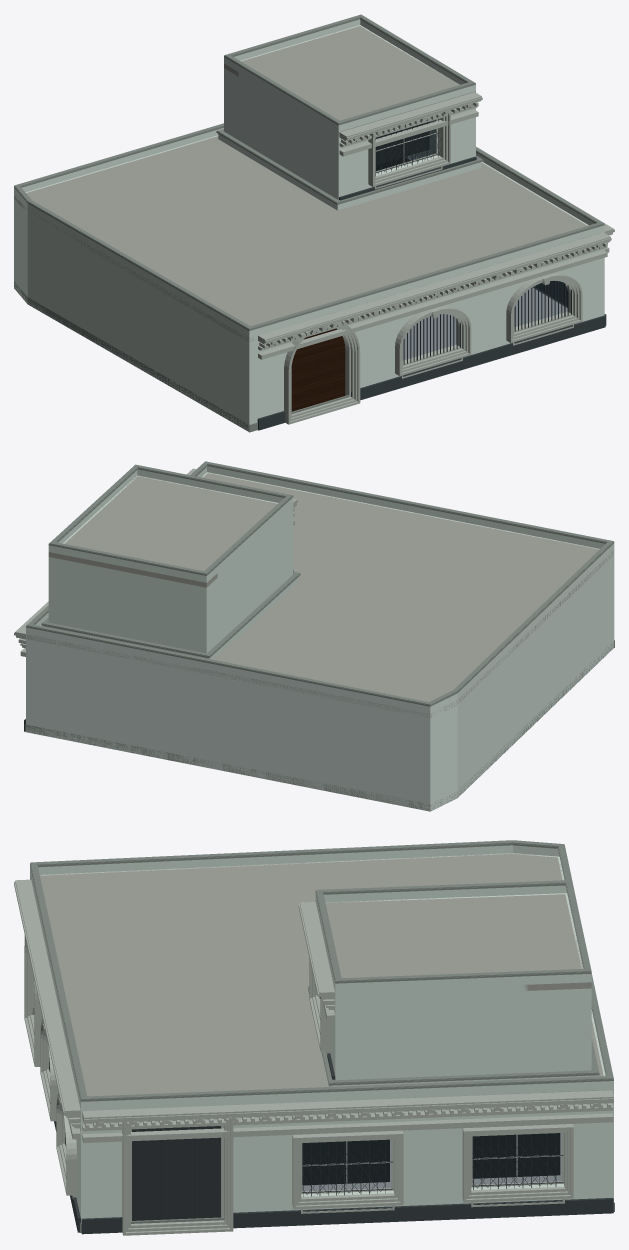
Rendered from building.glb.
3 views of the same model, one above another, from view 1: azimuth 30°, elevation 25°; view 2: azimuth 150°, elevation 25°; view 3: azimuth 270°, elevation 25° (orthographic). The views are drawn at different scales.
Visible parts, largest first — view 1: roof/house:0/roof_slab#0001, house:0/edge0/z0/house:0/edge0/z0/wall_0_0, roof/upper:0/roof_slab#0001, upper:0/edge0/z3.6/upper:0/edge0/z3.6/wall_0_0, roof/house:0/parapet#0001, house:0/edge2/z0/proj_classical_cornice_05/classical_cornice (×3), roof/house:0/parapet_cap#0002, house:0/edge2/z0/opening_u1.36_v0.05/door_panel#0001, roof/upper:0/parapet#0001, house:0/edge2/z0/proj_panel_08/facade_projection_panel#0001, upper:0/edge1/z3.6/upper:0/edge1/z3.6/wall_0_0, house:0/edge2/z0/proj_ledge_06/facade_projection_ledge#0001 (+24 smaller); view 2: roof/house:0/roof_slab#0001, house:0/edge4/z0/house:0/edge4/z0/wall_0_0, house:0/edge0/z0/house:0/edge0/z0/wall_0_0, roof/upper:0/roof_slab#0001, upper:0/edge3/z3.6/upper:0/edge3/z3.6/wall_0_0, roof/house:0/parapet#0001, upper:0/edge0/z3.6/upper:0/edge0/z3.6/wall_0_0, roof/house:0/parapet_cap#0002, roof/upper:0/parapet#0001, house:0/edge5/z0/house:0/edge5/z0/wall_0_0, roof/house:0/parapet_cap#0001, roof/upper:0/parapet_cap#0002 (+6 smaller); view 3: roof/house:0/roof_slab#0001, upper:0/edge2/z3.6/upper:0/edge2/z3.6/wall_0_0, house:0/edge3/z0/house:0/edge3/z0/wall_0_0/core0, roof/upper:0/roof_slab#0001, house:0/edge3/z0/proj_classical_cornice_05/classical_cornice (×5), roof/house:0/parapet#0001, house:0/edge3/z0/opening_u1.32_v0.05/door_leaf#0001, roof/house:0/parapet_cap#0002, house:0/edge3/z0/proj_panel_08/facade_projection_panel#0001, house:0/edge3/z0/proj_ledge_06/facade_projection_ledge#0001, roof/upper:0/parapet#0001, house:0/edge2/z0/proj_classical_cornice_05/classical_cornice (×2) (+23 smaller).
Part boxes in pixels (<box>): roof/house:0/roof_slab#0001: <box>14,136,599,342</box>; house:0/edge0/z0/house:0/edge0/z0/wall_0_0: <box>27,210,249,431</box>; roof/upper:0/roof_slab#0001: <box>224,26,475,136</box>; upper:0/edge0/z3.6/upper:0/edge0/z3.6/wall_0_0: <box>224,68,339,198</box>; roof/house:0/parapet#0001: <box>14,128,604,337</box>; house:0/edge2/z0/proj_classical_cornice_05/classical_cornice (×3): <box>258,232,611,349</box>; roof/house:0/parapet_cap#0002: <box>14,123,604,329</box>; house:0/edge2/z0/opening_u1.36_v0.05/door_panel#0001: <box>291,328,345,411</box>; roof/upper:0/parapet#0001: <box>224,19,475,131</box>; house:0/edge2/z0/proj_panel_08/facade_projection_panel#0001: <box>351,315,605,400</box>; upper:0/edge1/z3.6/upper:0/edge1/z3.6/wall_0_0: <box>335,108,475,199</box>; house:0/edge2/z0/proj_ledge_06/facade_projection_ledge#0001: <box>258,250,607,359</box>; roof/house:0/roof_slab#0001: <box>26,473,614,717</box>; house:0/edge4/z0/house:0/edge4/z0/wall_0_0: <box>26,634,430,811</box>; house:0/edge0/z0/house:0/edge0/z0/wall_0_0: <box>457,550,614,797</box>; roof/upper:0/roof_slab#0001: <box>48,475,277,587</box>; upper:0/edge3/z3.6/upper:0/edge3/z3.6/wall_0_0: <box>48,557,207,652</box>; roof/house:0/parapet#0001: <box>26,466,614,713</box>; upper:0/edge0/z3.6/upper:0/edge0/z3.6/wall_0_0: <box>201,504,293,653</box>; roof/house:0/parapet_cap#0002: <box>26,461,613,704</box>; roof/upper:0/parapet#0001: <box>48,469,293,582</box>; house:0/edge5/z0/house:0/edge5/z0/wall_0_0: <box>430,700,457,811</box>; roof/house:0/parapet_cap#0001: <box>26,464,614,706</box>; roof/upper:0/parapet_cap#0002: <box>49,464,292,574</box>; roof/house:0/roof_slab#0001: <box>30,853,613,1100</box>; upper:0/edge2/z3.6/upper:0/edge2/z3.6/wall_0_0: <box>334,985,591,1079</box>; house:0/edge3/z0/house:0/edge3/z0/wall_0_0/core0: <box>81,1089,613,1223</box>; roof/upper:0/roof_slab#0001: <box>315,894,591,991</box>; house:0/edge3/z0/proj_classical_cornice_05/classical_cornice (×5): <box>82,1090,613,1131</box>; roof/house:0/parapet#0001: <box>30,845,613,1110</box>; house:0/edge3/z0/opening_u1.32_v0.05/door_leaf#0001: <box>132,1126,220,1220</box>; roof/house:0/parapet_cap#0002: <box>30,840,613,1099</box>; house:0/edge3/z0/proj_panel_08/facade_projection_panel#0001: <box>233,1198,613,1228</box>; house:0/edge3/z0/proj_ledge_06/facade_projection_ledge#0001: <box>82,1113,613,1142</box>; roof/upper:0/parapet#0001: <box>315,885,591,991</box>; house:0/edge2/z0/proj_classical_cornice_05/classical_cornice (×2): <box>14,879,80,1115</box>.
Bounding box in the file's own units: 16.8 × 6.82 × 15.99.
9 materials, 1 textured.
